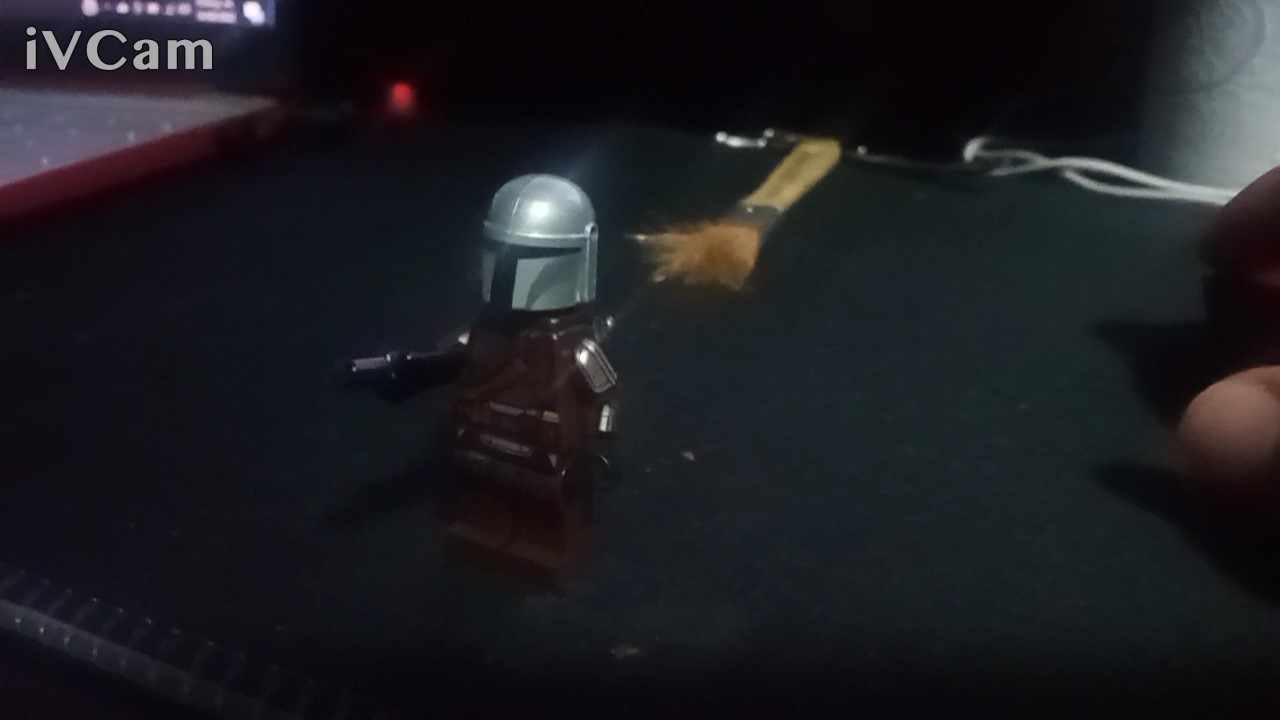mandalorian: (343, 145, 637, 625)
